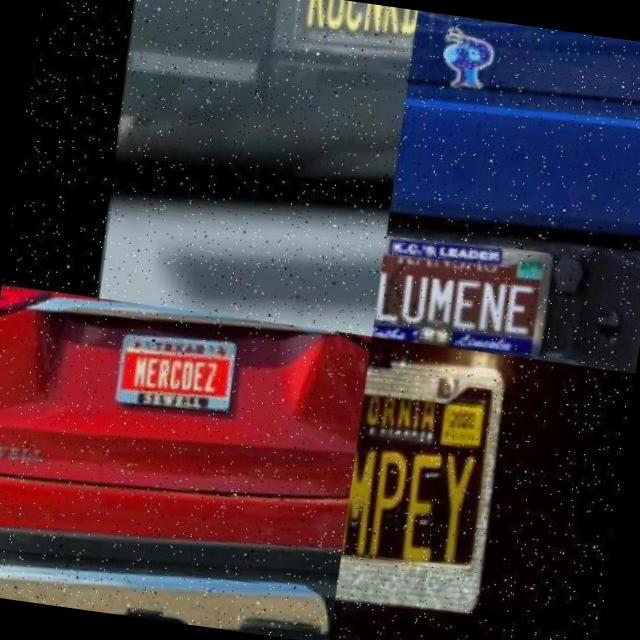LicensePlate: (332, 346, 515, 640), (371, 240, 547, 358), (283, 0, 418, 81), (109, 339, 232, 418)
